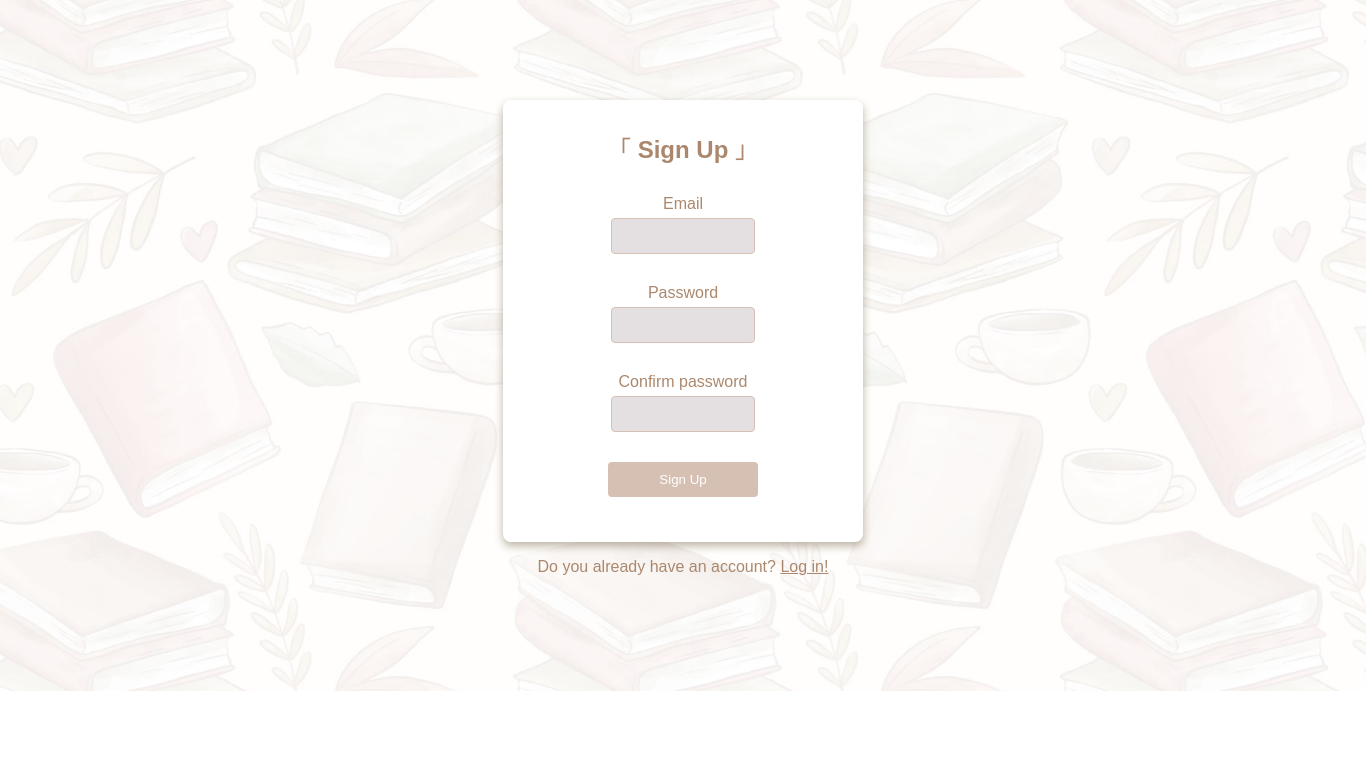
Scenario: <SignUpPage /> handles signup flow
# Fill and submit the form
In the field labelled "Email": (683, 236) [611,218,755,254], type "test@example.com"
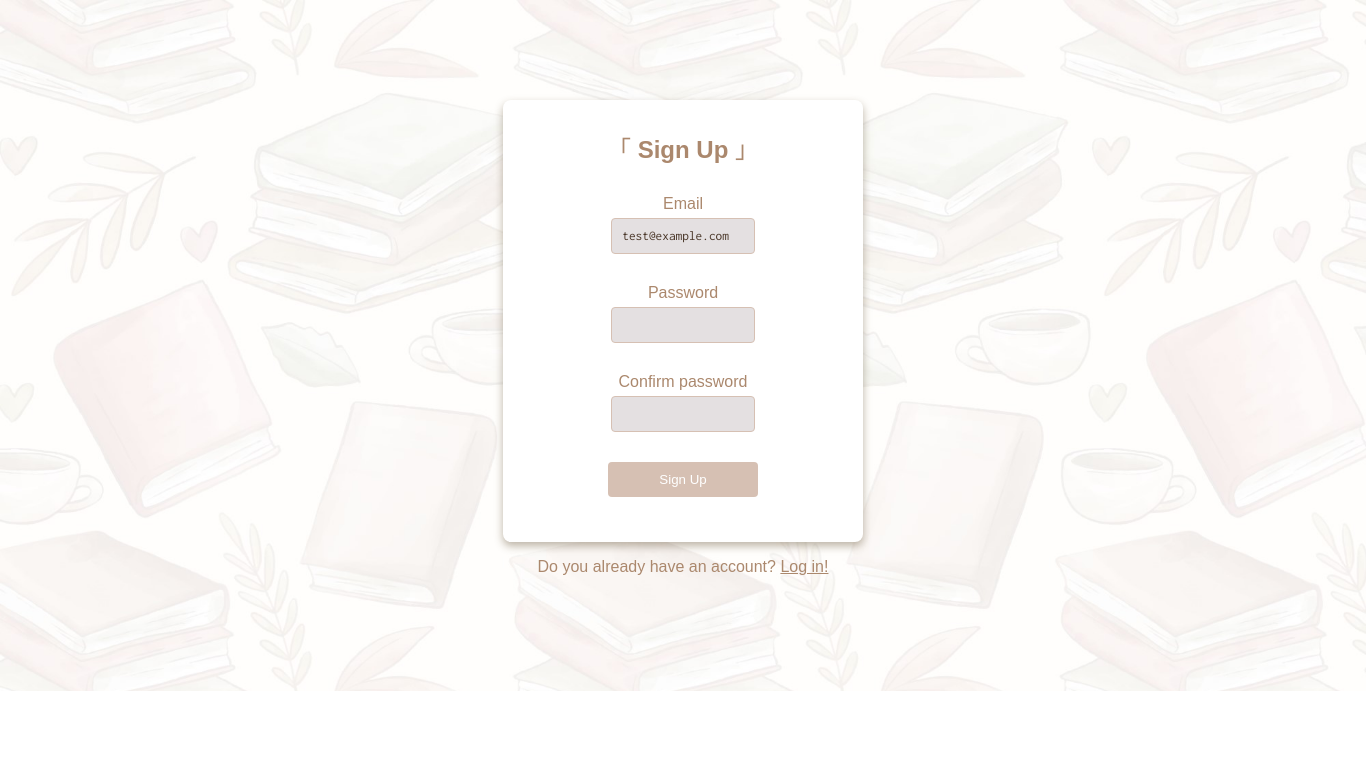
In the password field labelled "Password": (683, 325) [611,307,755,343], type "password123"
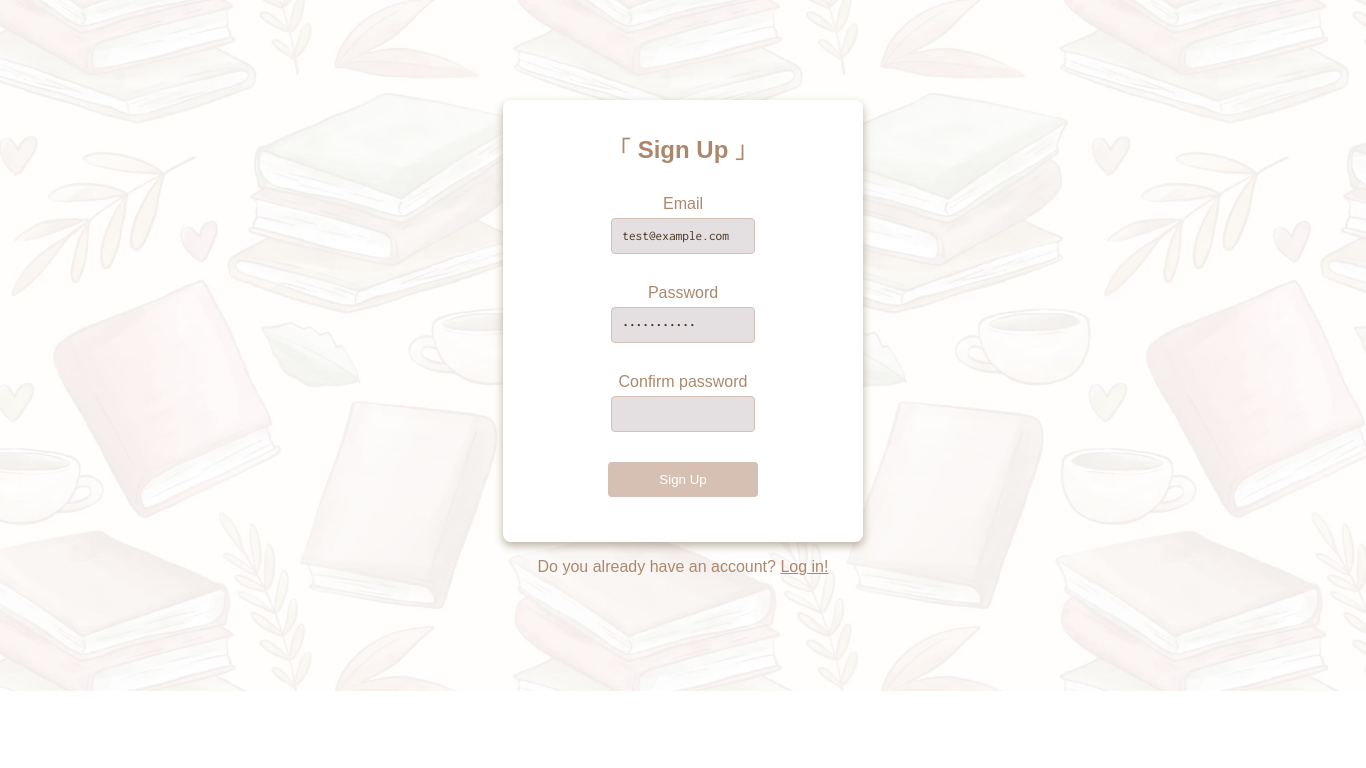
In the password field labelled "Confirm password": (683, 414) [611,396,755,432], type "password123"
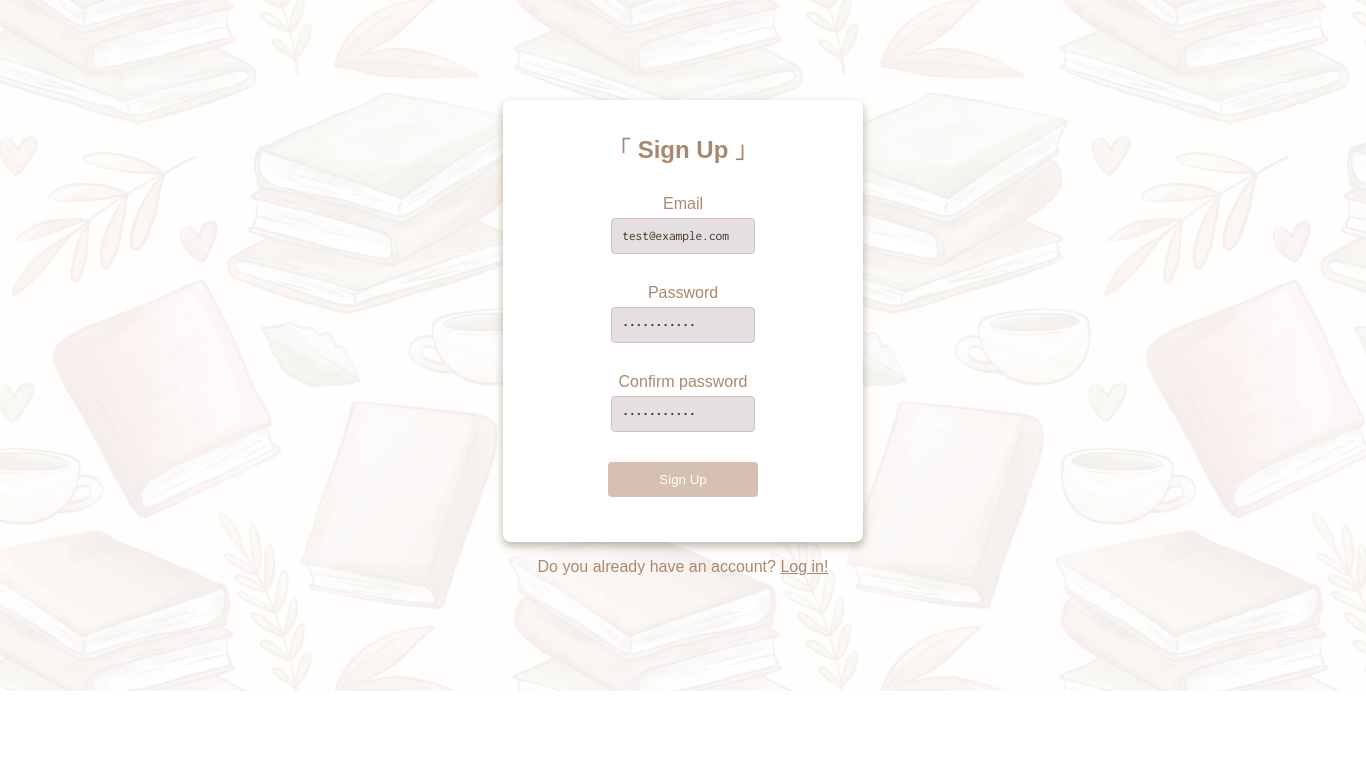
Click the button "Sign Up": (683, 480) [608,462,758,497]
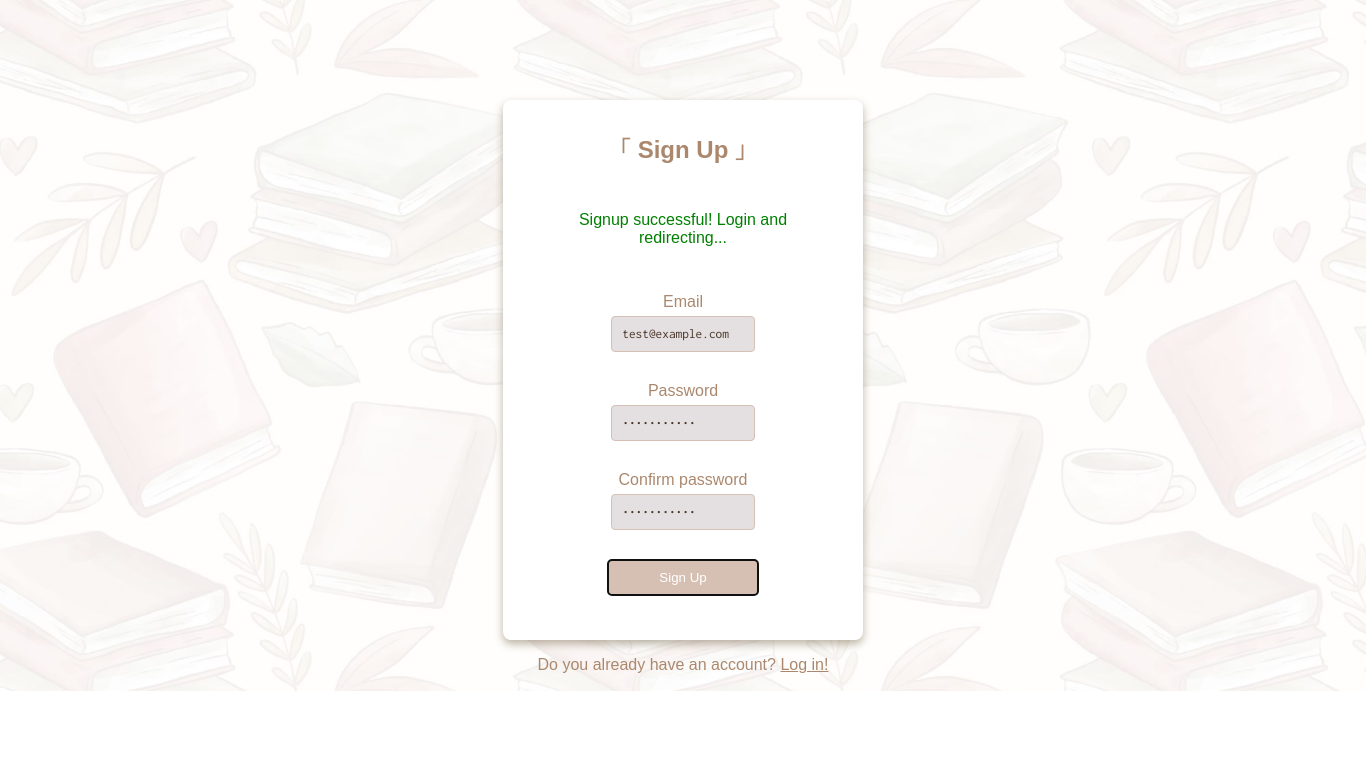
Now the text "Signup successful! Login and redirecting..." is shown, box [579,211,787,246]
